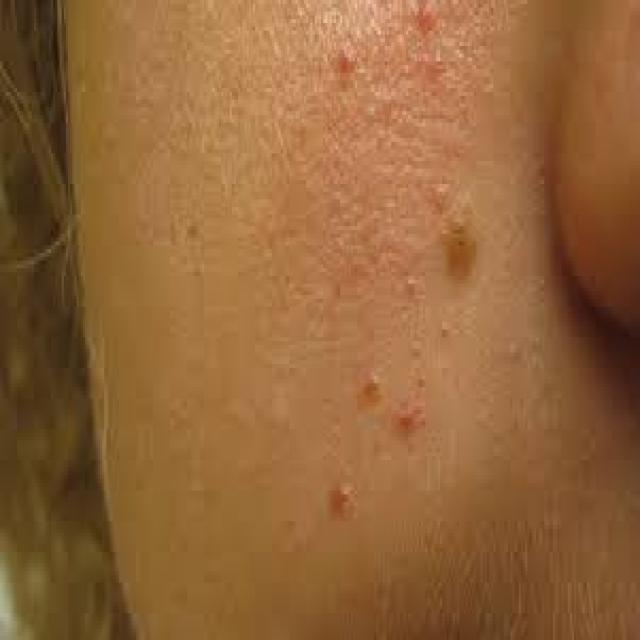Acne: (392, 399, 427, 435), (416, 46, 445, 84), (332, 478, 356, 520), (361, 367, 384, 406), (412, 0, 437, 34), (336, 38, 356, 79)
